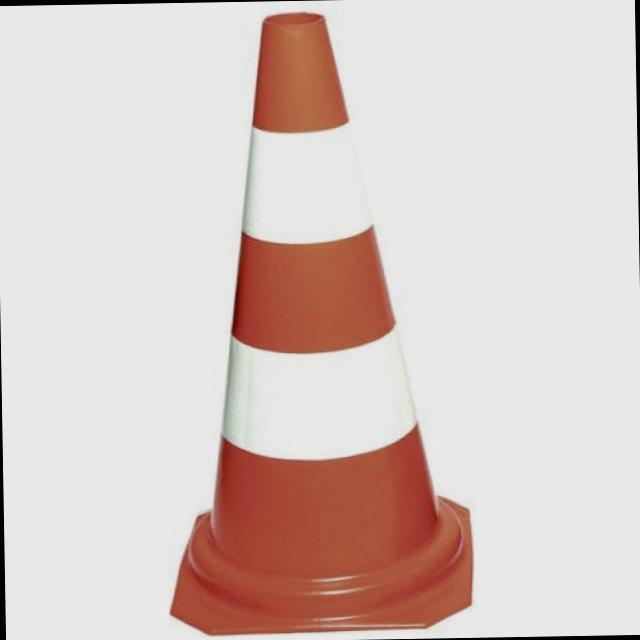cone: (200, 6, 447, 619)
